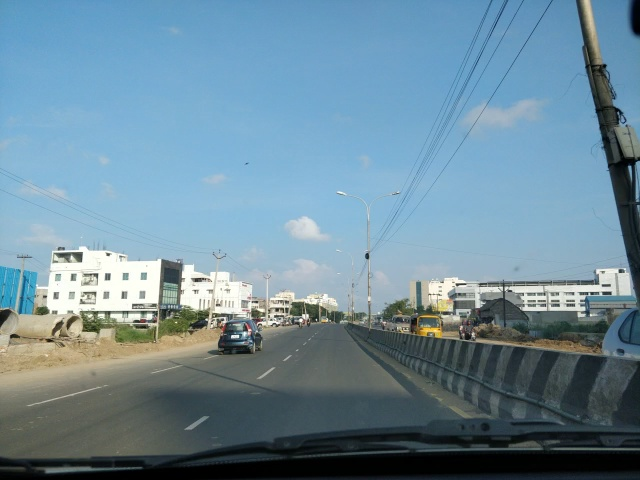car: (599, 309, 639, 418), (215, 316, 265, 357)
motorbike: (457, 320, 479, 350), (305, 316, 313, 328), (296, 317, 303, 330)
truck: (411, 313, 444, 345), (384, 313, 411, 341)
